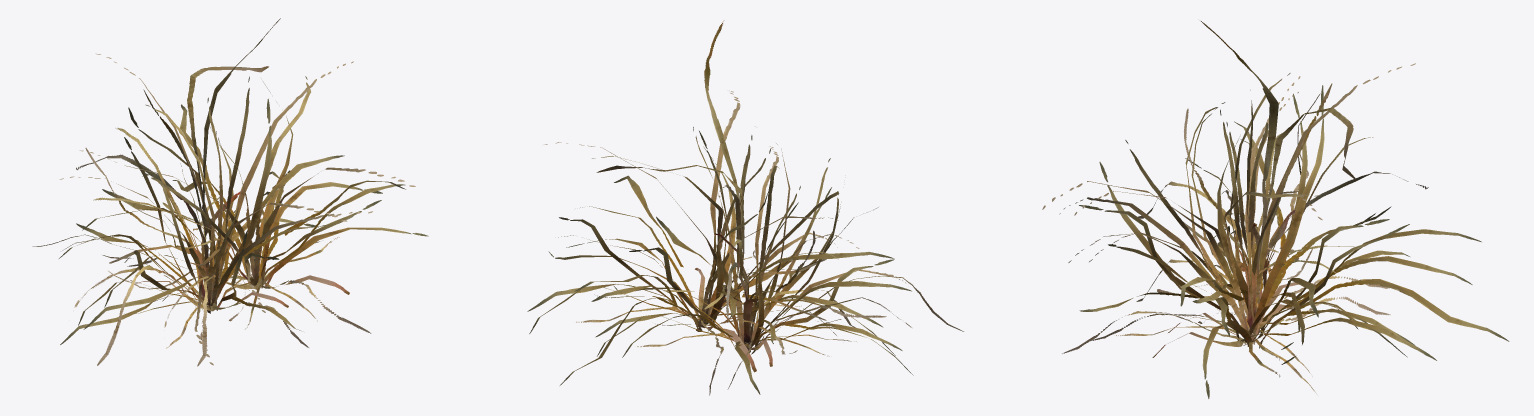
Rendered from tussock_clumps.glb.
3 views of the same model, side by side, from view 1: azimuth 30°, elevation 25°; view 2: azimuth 150°, elevation 25°; view 3: azimuth 270°, elevation 25° (orthographic). The views are drawn at different scales.
Parts seen in each view (by area): view 1: grass_medium_01_small_a_LOD0, grass_medium_01_small_b_LOD0; view 2: grass_medium_01_small_a_LOD0, grass_medium_01_small_b_LOD0; view 3: grass_medium_01_small_a_LOD0, grass_medium_01_small_b_LOD0.
Part boxes in pixels (<box>): grass_medium_01_small_a_LOD0: <box>32,18,372,365</box>; grass_medium_01_small_b_LOD0: <box>79,76,428,366</box>; grass_medium_01_small_a_LOD0: <box>544,20,963,394</box>; grass_medium_01_small_b_LOD0: <box>527,91,895,395</box>; grass_medium_01_small_a_LOD0: <box>1059,21,1472,376</box>; grass_medium_01_small_b_LOD0: <box>1042,76,1509,398</box>.
Size of the model in its own units: 0.1848 by 0.1404 by 0.1899.
Materials: 1 (1 with a texture image).
